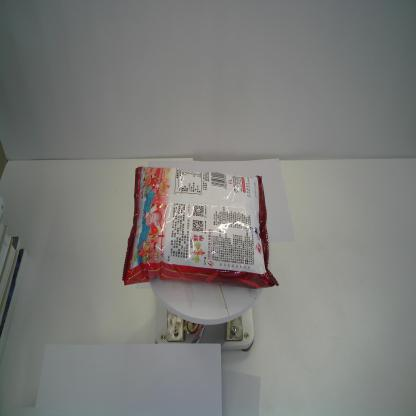Puffed Food: (121, 166, 280, 290)
